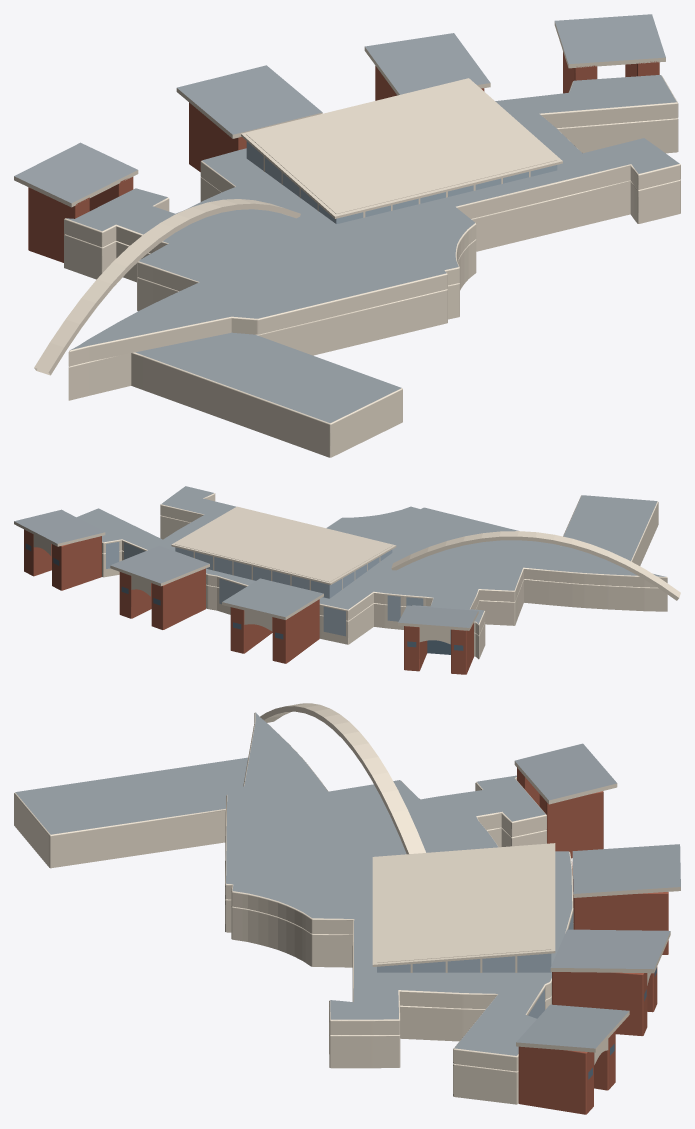
The model's file is nyc-st-george-terminal.glb.
3 views of the same model, one above another, from view 1: azimuth 30°, elevation 25°; view 2: azimuth 150°, elevation 25°; view 3: azimuth 270°, elevation 25° (orthographic). The views are drawn at different scales.
Parts seen in each view (by area): view 1: St. George Ferry Terminal; view 2: St. George Ferry Terminal; view 3: St. George Ferry Terminal.
Part boxes in pixels (left/top/right/bottom): St. George Ferry Terminal: left=14, top=14, right=680, bottom=457; St. George Ferry Terminal: left=14, top=486, right=680, bottom=674; St. George Ferry Terminal: left=14, top=703, right=680, bottom=1114.
Size of the model in its own units: 217 by 28.45 by 165.
